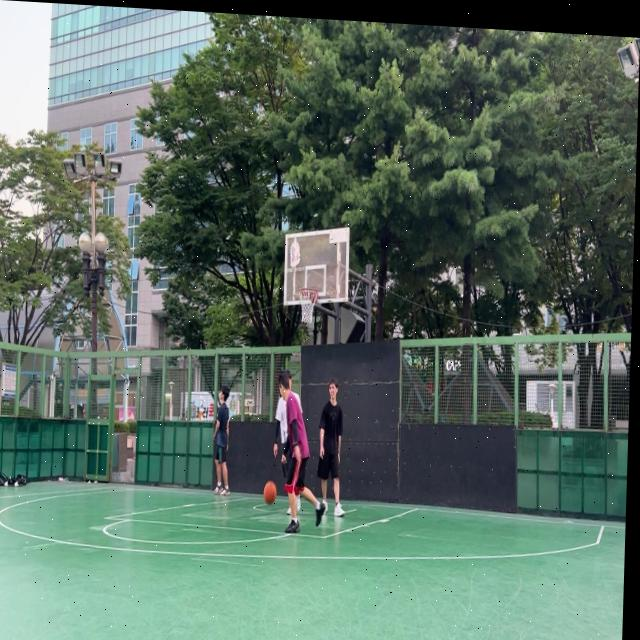basketball: (263, 480, 277, 504)
hoop: (297, 286, 319, 324)
